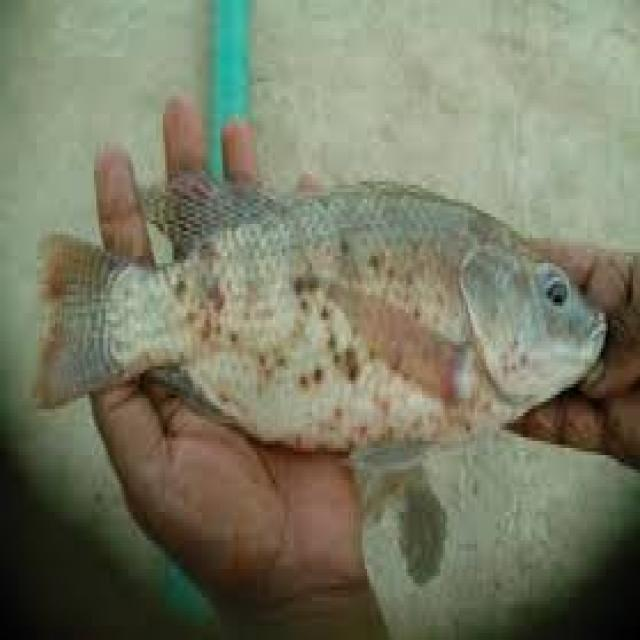EUS Disease: (36, 175, 612, 449), (131, 181, 616, 455)
